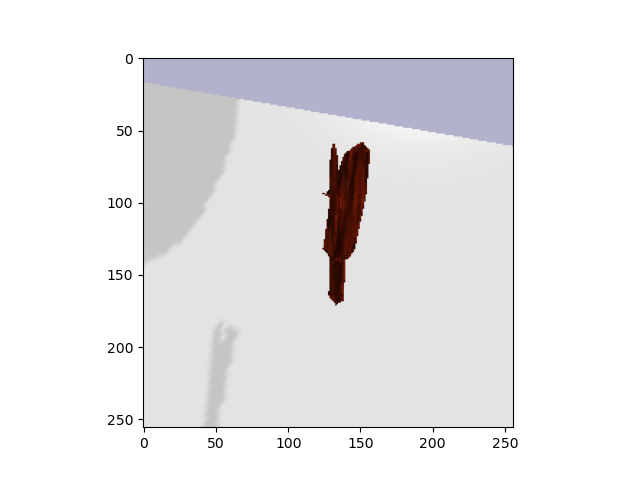v249b387_107: (302, 135, 394, 314)
